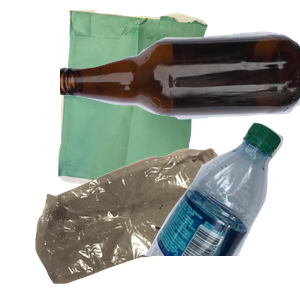glass: (60, 29, 300, 141)
paper: (55, 10, 255, 190)
plastic: (142, 120, 300, 300)
trash: (33, 145, 270, 300)
